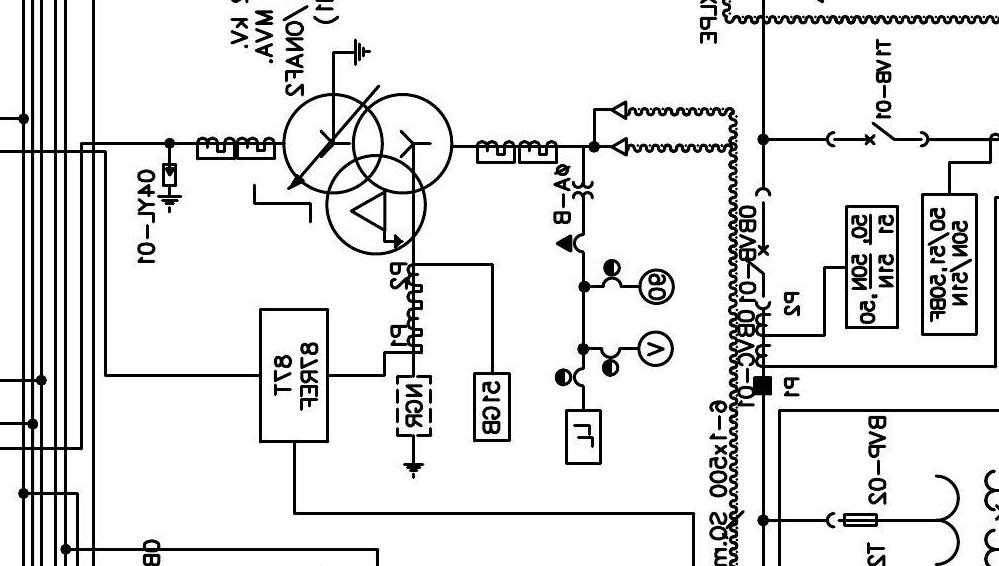11522_tx_ynyn0d1: (281, 92, 455, 257)
115_la: (156, 162, 183, 214)
22_breaker: (745, 186, 772, 311), (826, 121, 930, 148)
LL: (565, 408, 602, 466)
NGR_future: (396, 374, 433, 480)
terminator_double: (592, 100, 628, 157)
v_m: (636, 329, 675, 368)
